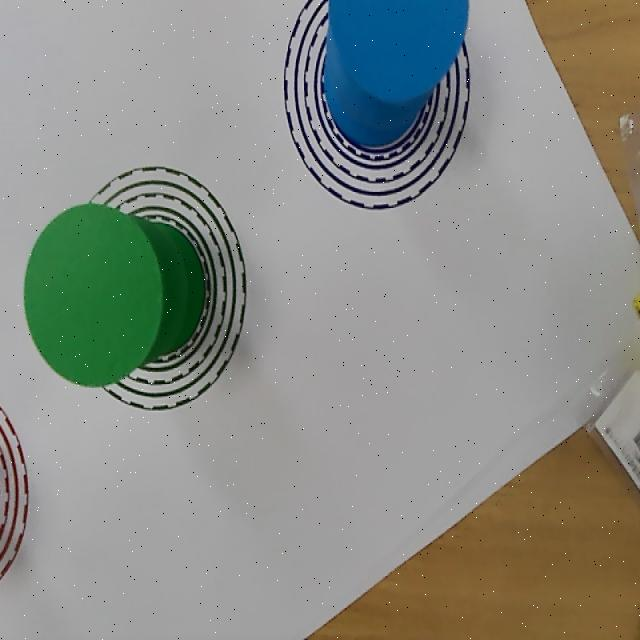g: (24, 203, 162, 387)
